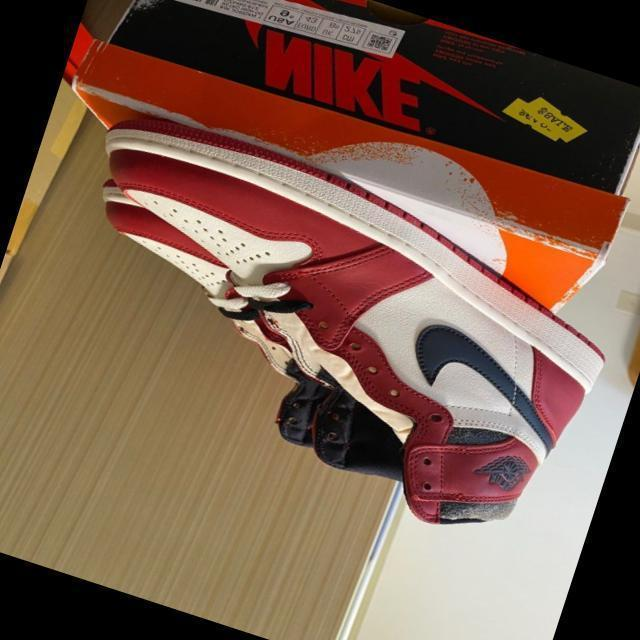nike original jordan 1: (24, 100, 634, 557), (40, 177, 390, 453)
